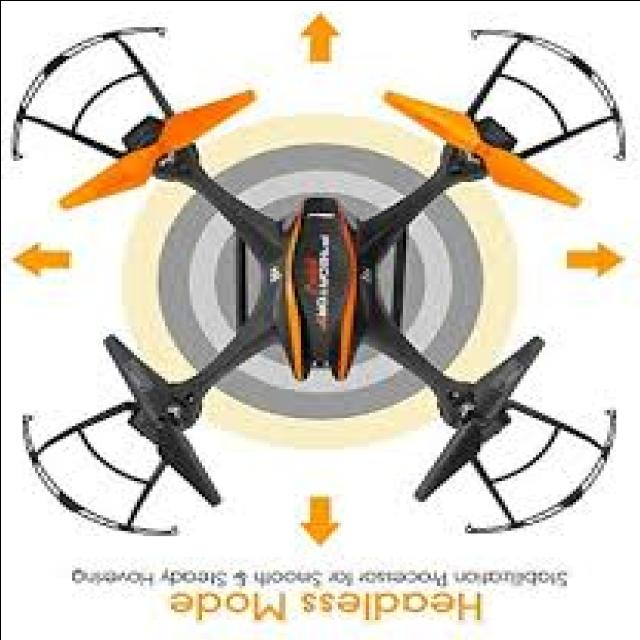drone: (0, 23, 640, 541)
